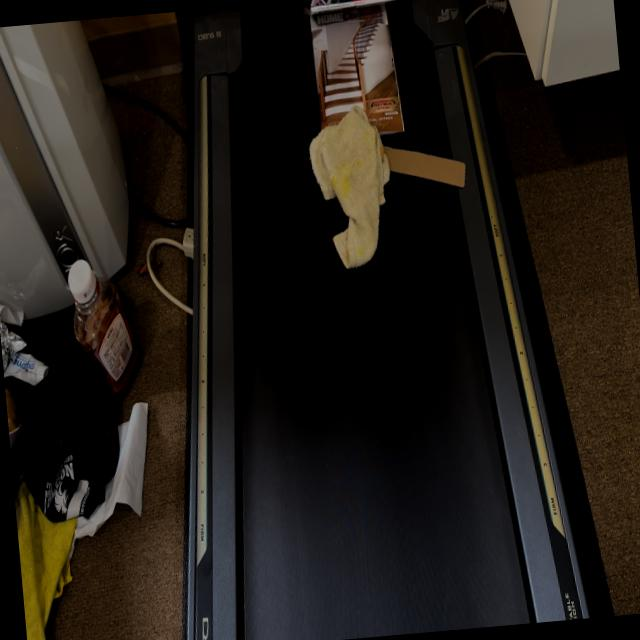Recycle: (306, 0, 405, 140)
Trash: (304, 106, 398, 274)
